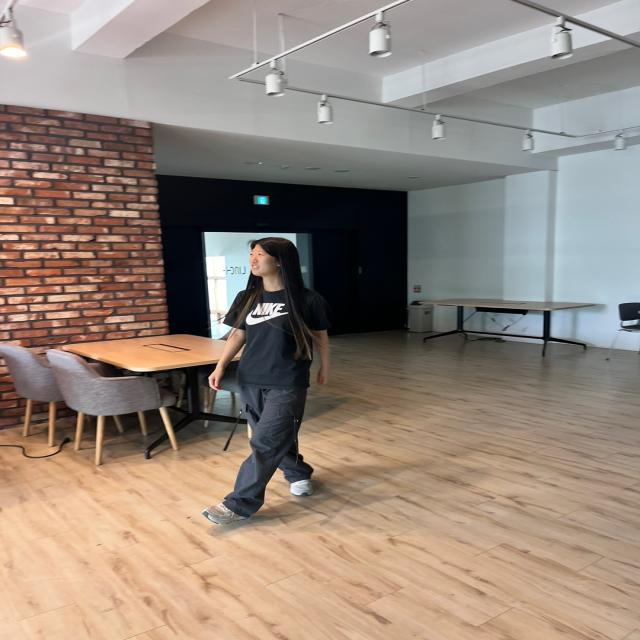not_lay: (208, 238, 328, 520)
